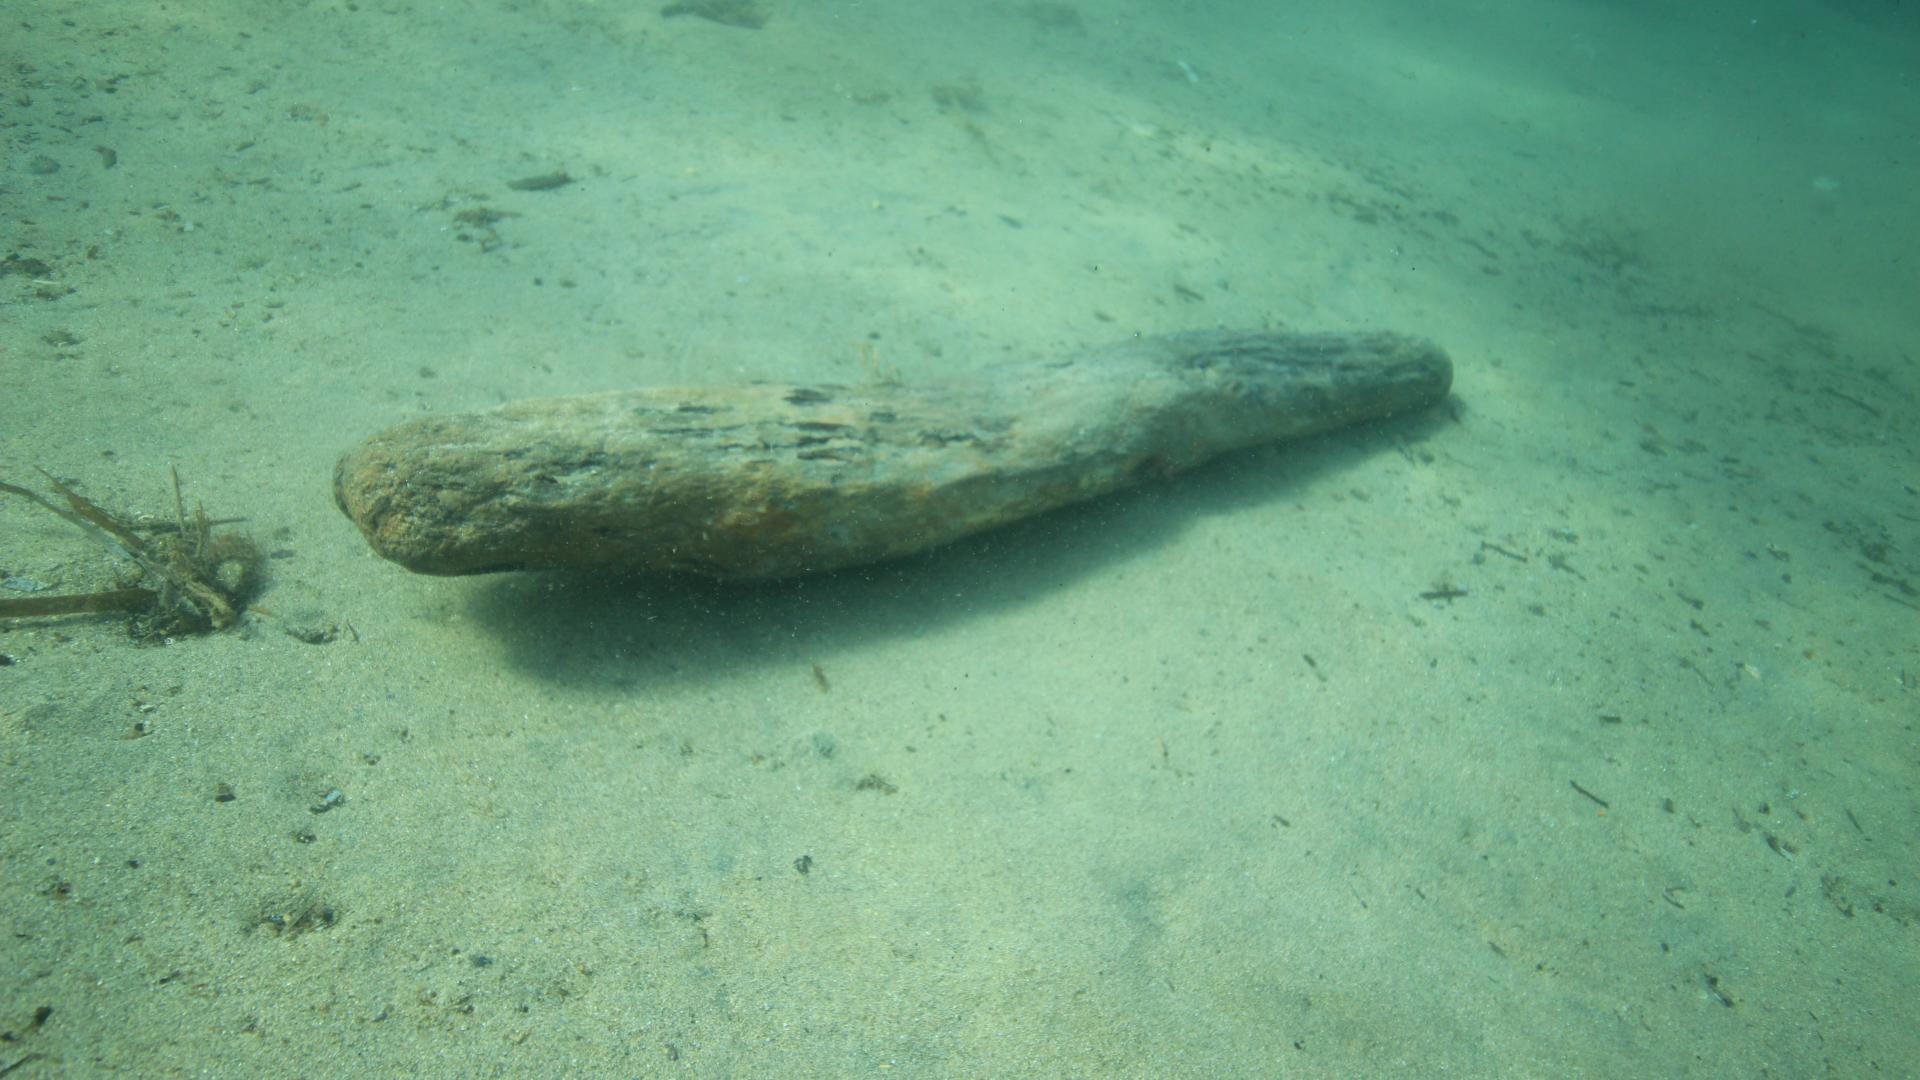wood: (328, 327, 1451, 582)
